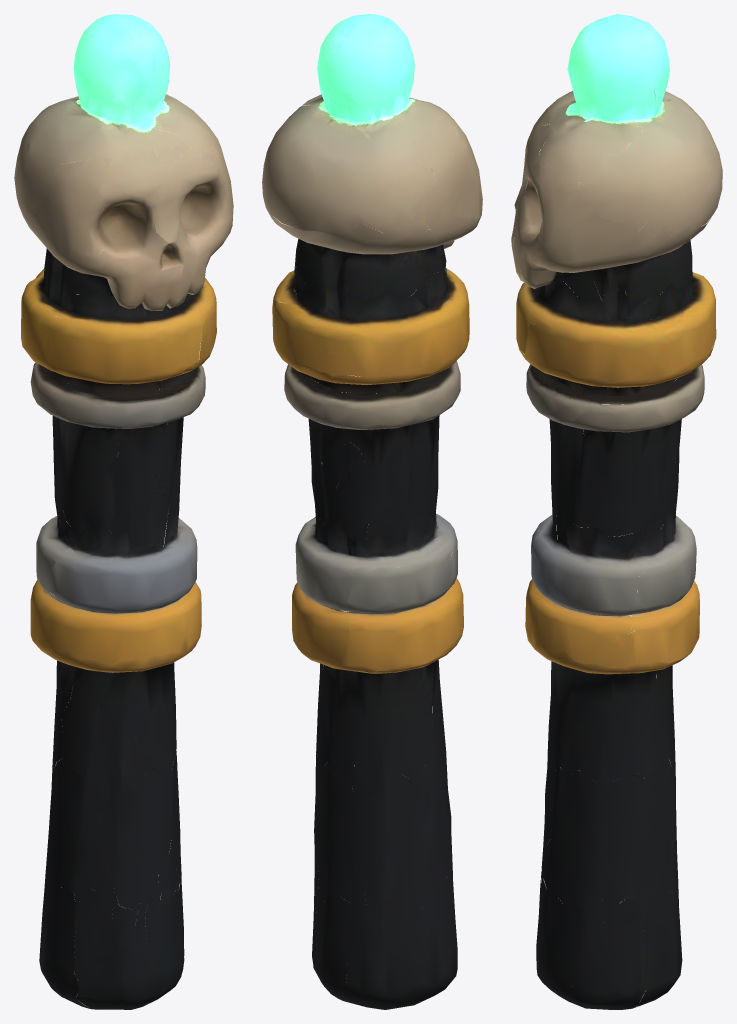
Rendered from Arm_whisper_wand-BHQVB5Pr.glb.
The picture shows the model from 3 angles, left to right: view 1: azimuth 30°, elevation 25°; view 2: azimuth 150°, elevation 25°; view 3: azimuth 270°, elevation 25°; orthographic projection.
Parts seen in each view (by area): view 1: Arm_whisper_wand; view 2: Arm_whisper_wand; view 3: Arm_whisper_wand.
Boxes of the visible parts, x1=… form: Arm_whisper_wand: x1=14, y1=14, x2=233, y2=1009; Arm_whisper_wand: x1=262, y1=14, x2=482, y2=1009; Arm_whisper_wand: x1=511, y1=14, x2=722, y2=1009.
Size of the model in its own units: 0.1876 by 1 by 0.1942.
1 material, 1 textured.
